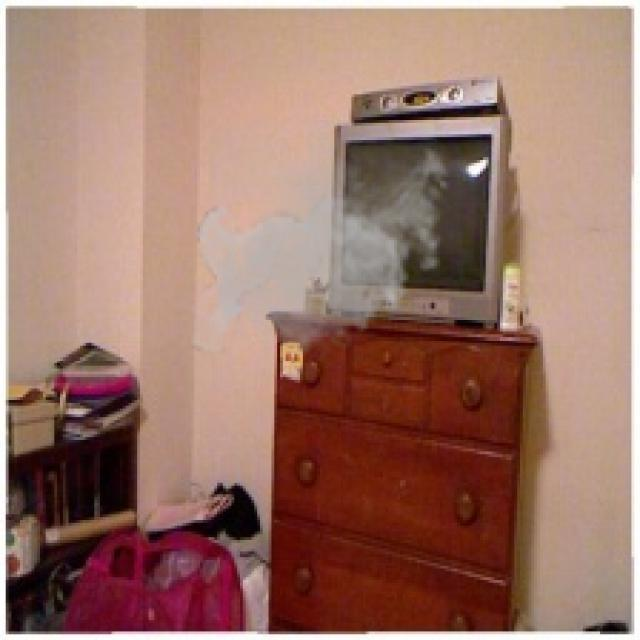Smoke: (192, 120, 457, 366)
